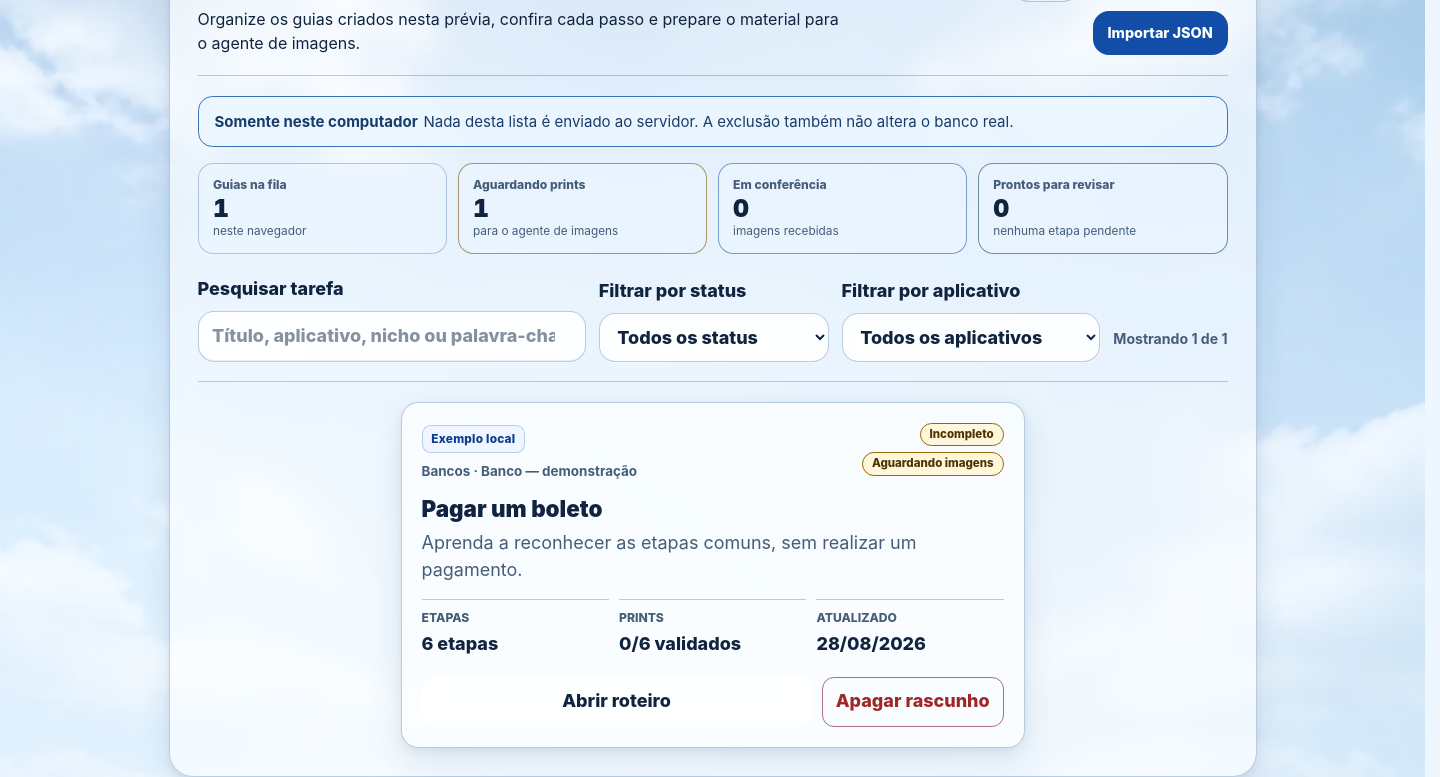
Scenario: área de rascunhos locais da prévia › mostra o exemplo local e permite apagá-lo com confirmação
The width and height of the screenshot is (1440, 777).
(page scrolled)
Check: the heading "Pagar um boleto" is shown, box [422,495,602,522]
Click the button with aria-label "Apagar rascunho: Pagar um boleto".
click(913, 702)  # box [822,677,1004,727]
(page scrolled)
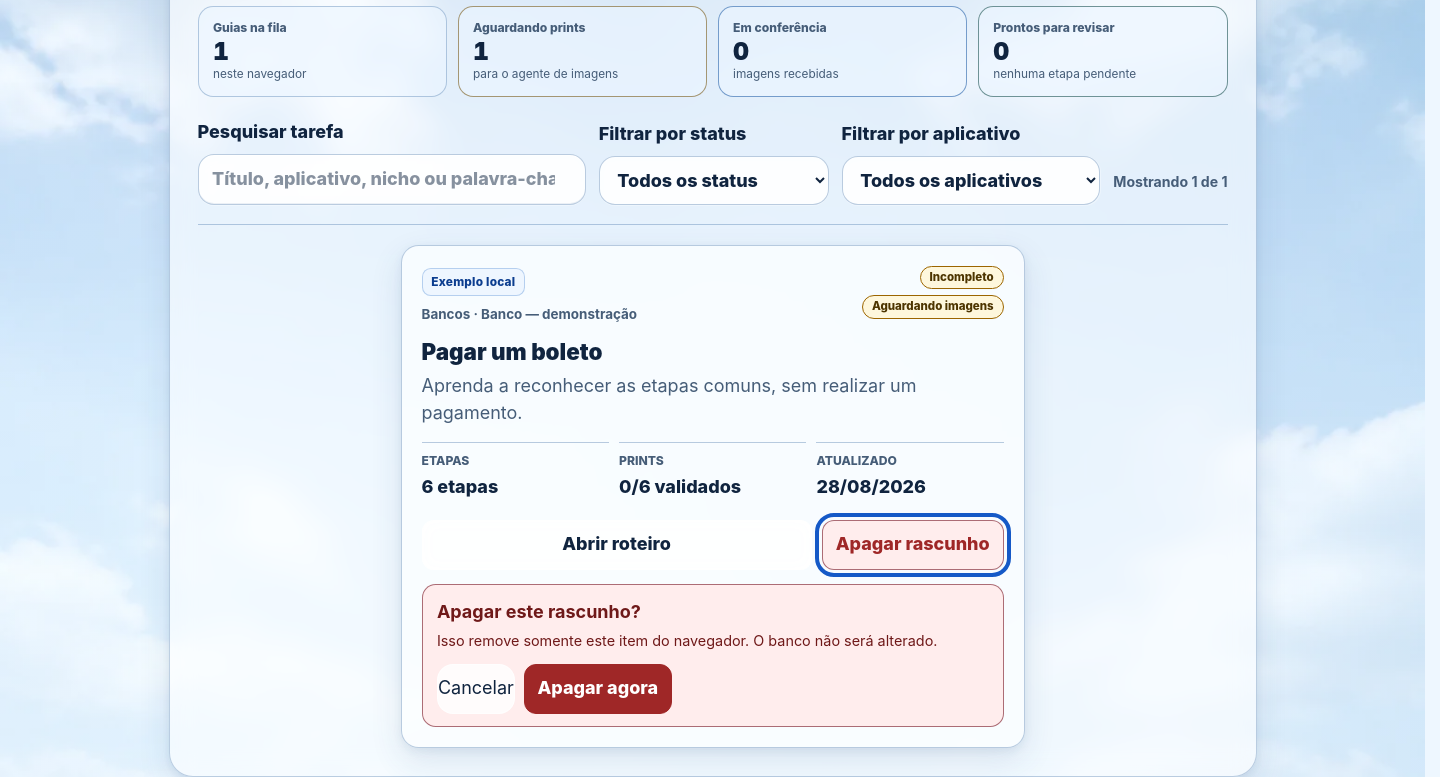
Check: the dialog named "Confirmar exclusão de Pagar um boleto" is shown, box [422,584,1004,727]
Click the button with aria-label "Confirmar apagar rascunho: Pagar um boleto".
click(598, 689)  # box [524,664,672,714]
(page scrolled)
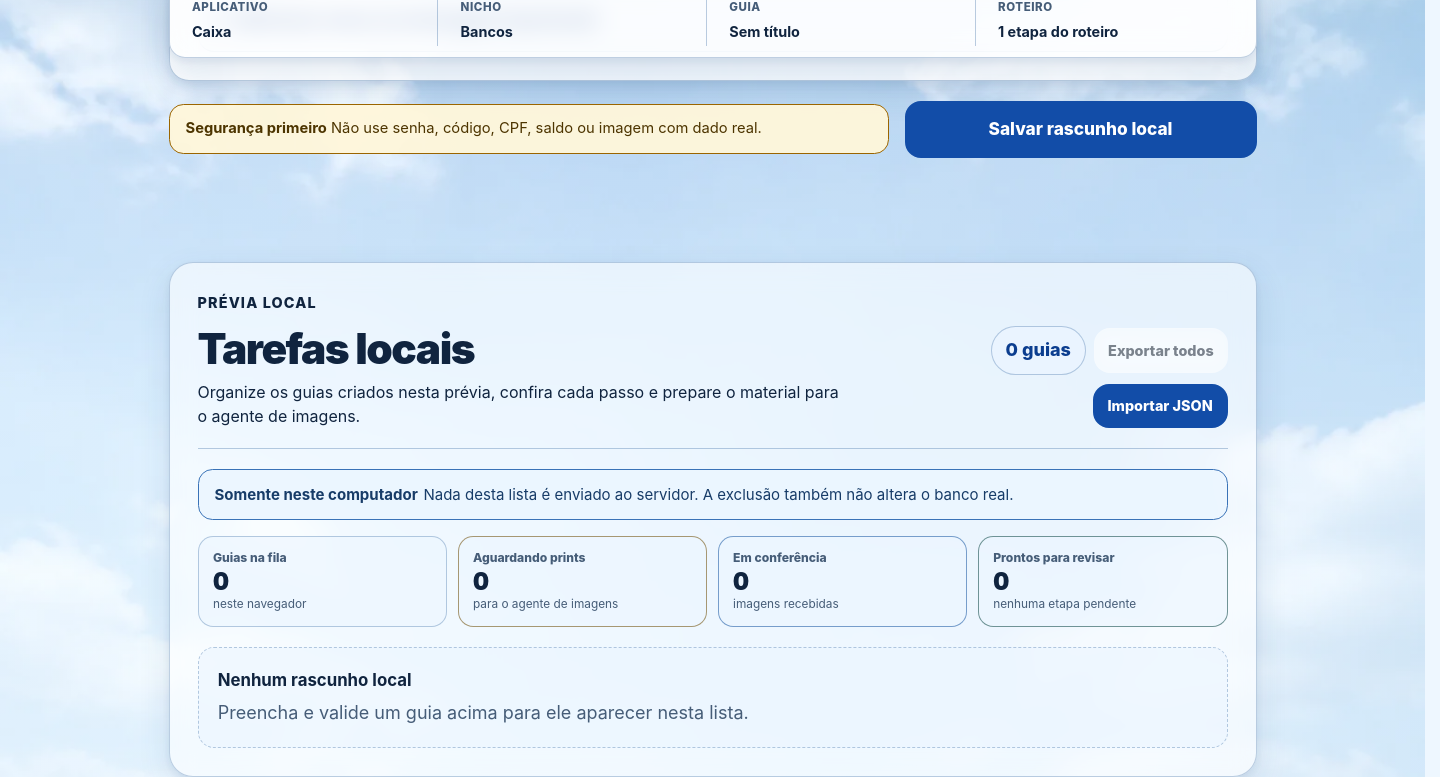
Check: the heading "Pagar um boleto" is gone
Check: the text "Nenhum rascunho local" is shown, box [218,670,412,690]
